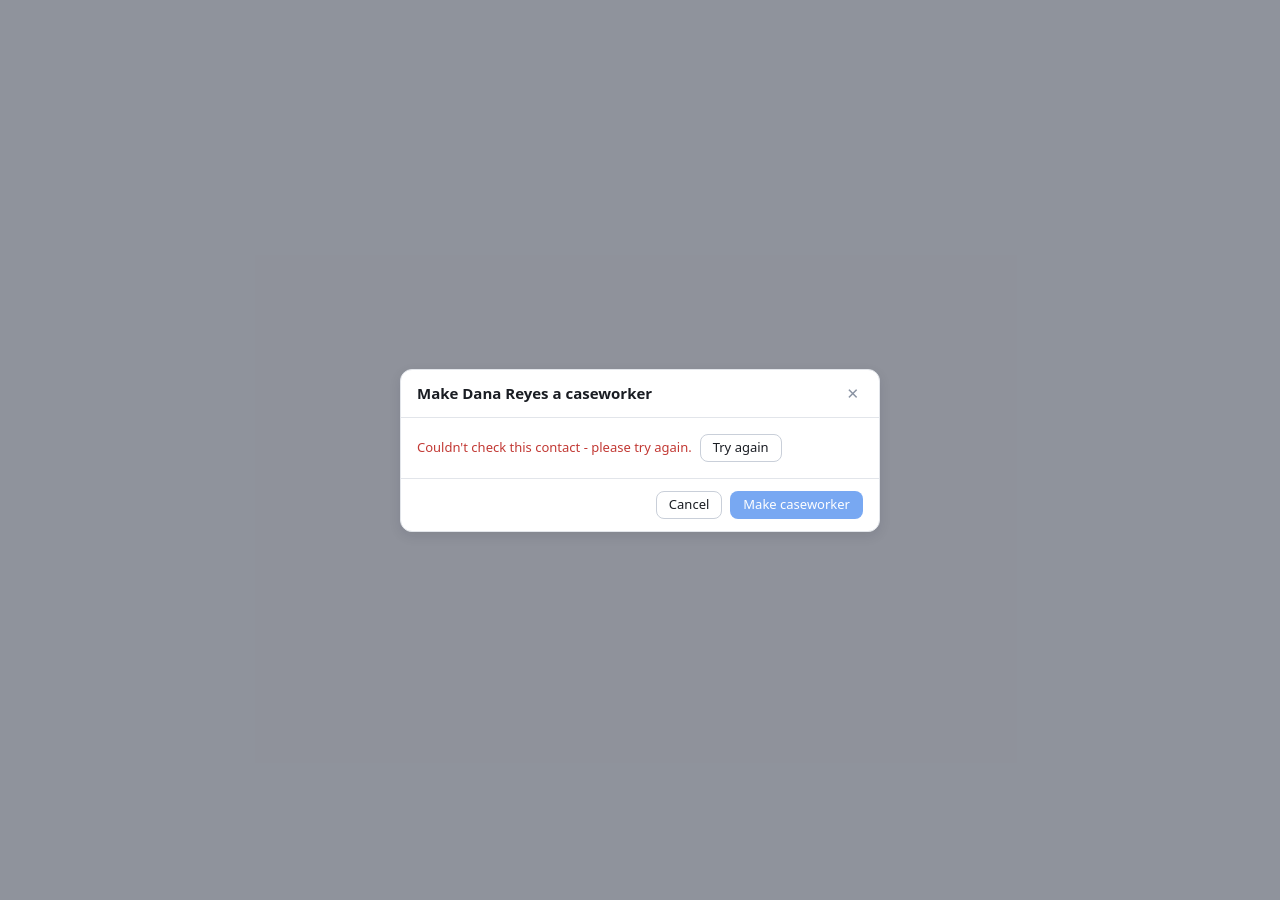
CaseworkerDialog › a failed preview read says so; Try again reads it again
Expected: the text "Couldn't check this contact - please try again." is shown, x1=417 y1=438 x2=692 y2=457
Expected: the button "Make caseworker" is disabled, x1=730 y1=490 x2=863 y2=518
Click the button "Try again": {"x": 741, "y": 448} x1=700 y1=434 x2=782 y2=462
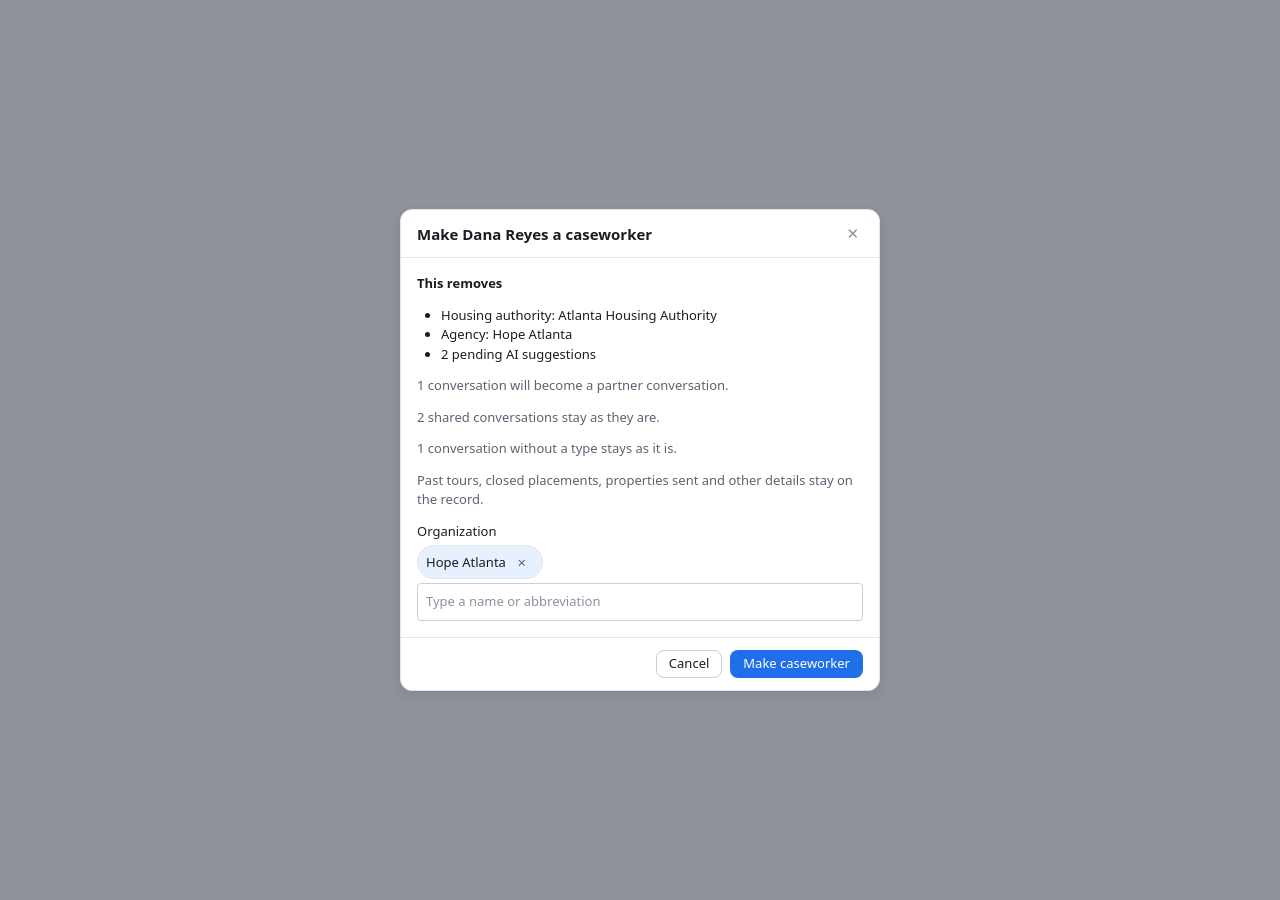
Result: the text "Past tours, closed placements, properties sent and other details stay on the record." is shown at x1=417 y1=471 x2=853 y2=508
Result: the button "Make caseworker" is enabled at x1=730 y1=650 x2=863 y2=678
